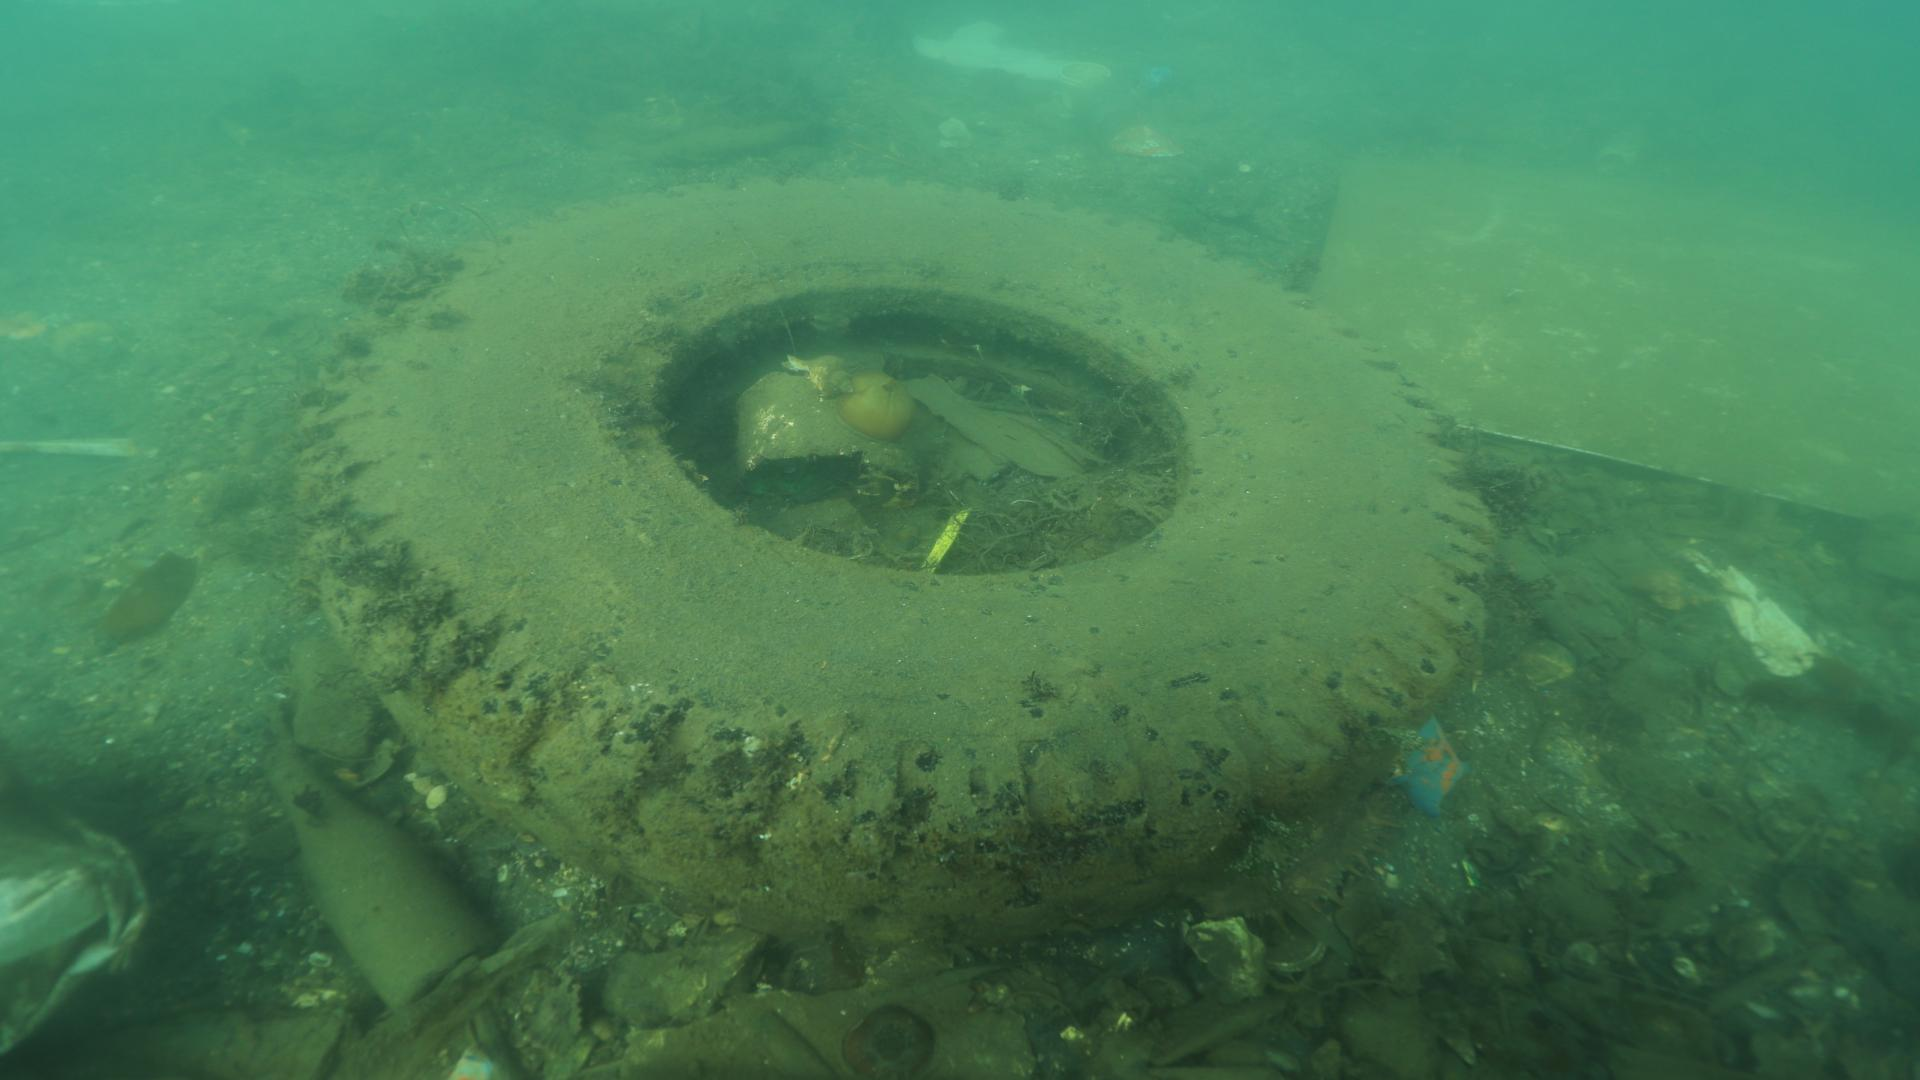tire: (287, 167, 1501, 944)
